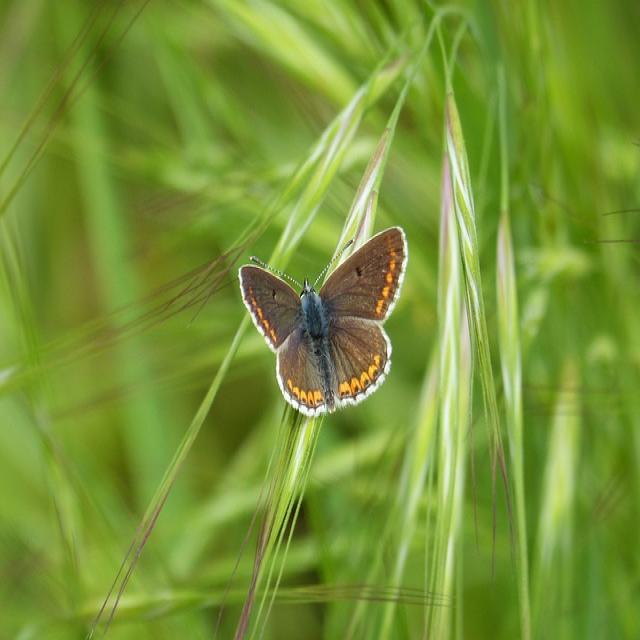butterfly: (236, 227, 409, 419)
